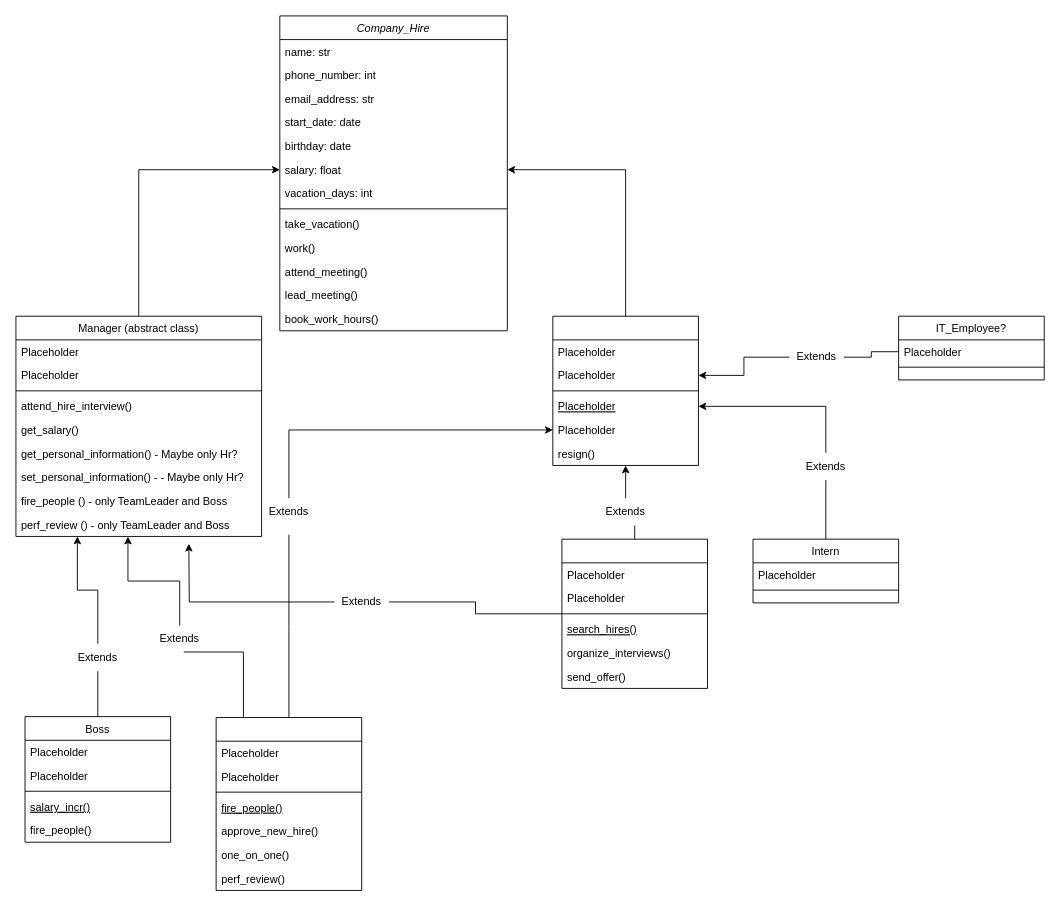
This 1060x909 diagram has some shape labels left out. The box of each missing label's shape, as (x1, y1, x2, y2) in pixels:
Employee: (552, 315, 698, 465)
HR: (561, 538, 708, 688)
Team Leader: (215, 717, 362, 890)
